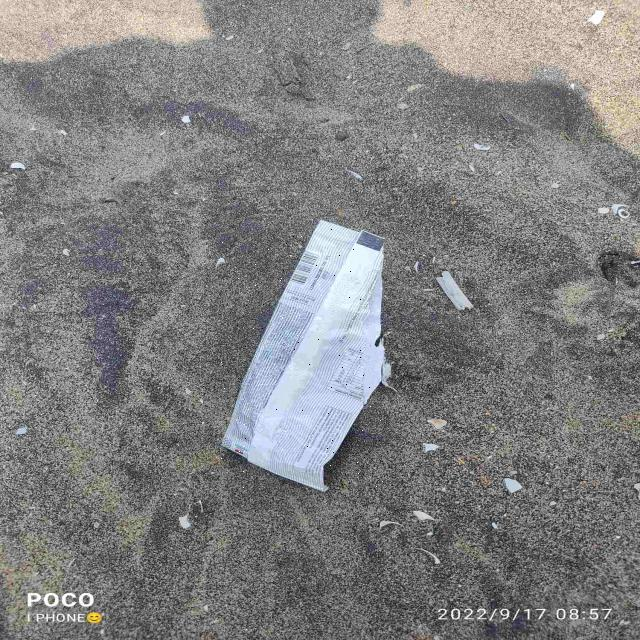wrapper: (221, 221, 384, 491)
